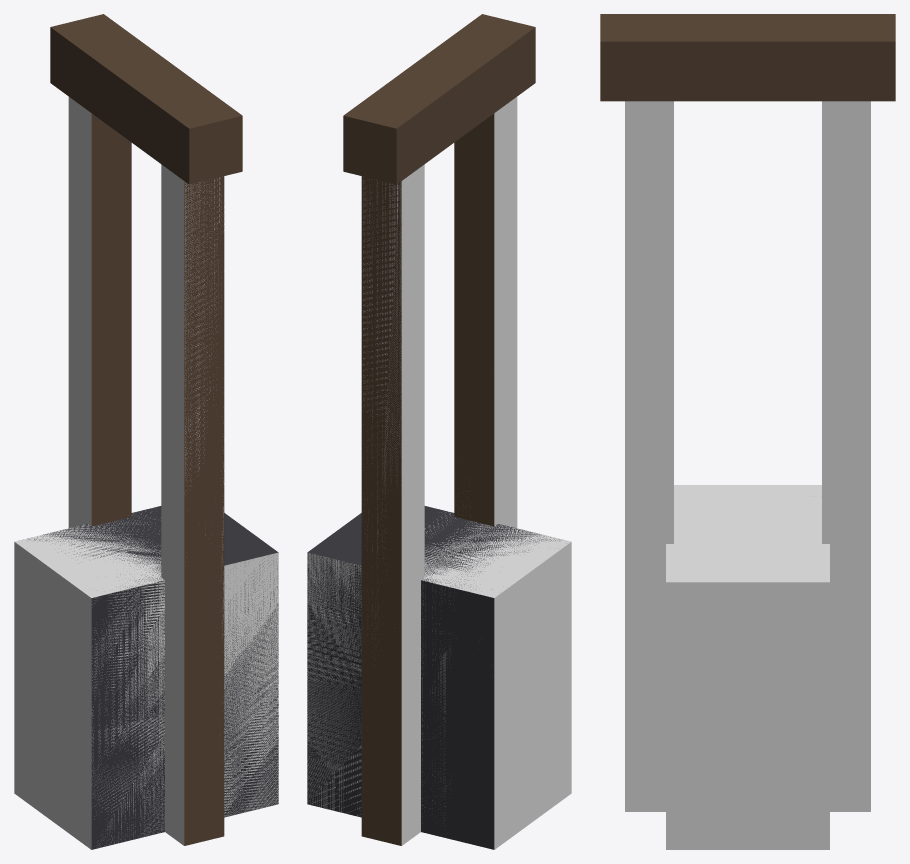
The model's file is booth-8-extra.glb.
3 renders of one model, left to right at view 1: azimuth 30°, elevation 25°; view 2: azimuth 150°, elevation 25°; view 3: azimuth 270°, elevation 25°, orthographic. The views are drawn at different scales.
Visible parts, largest first — view 1: solid.002, 00_#5a4636, 02_#3a3a40_r320, 01_#5a4636_r320, solid, solid.001; view 2: 00_#5a4636, 02_#3a3a40_r320, solid.002, 01_#5a4636_r320, solid.001, solid; view 3: solid.002, solid, solid.001, 01_#5a4636_r320.
Part boxes in pixels (bbox=[...]): solid.002: bbox=[14, 511, 278, 849]; 00_#5a4636: bbox=[91, 113, 224, 845]; 02_#3a3a40_r320: bbox=[27, 506, 278, 849]; 01_#5a4636_r320: bbox=[50, 14, 242, 184]; solid: bbox=[161, 164, 224, 845]; solid.001: bbox=[68, 97, 91, 528]; 00_#5a4636: bbox=[361, 113, 494, 845]; 02_#3a3a40_r320: bbox=[307, 506, 559, 849]; solid.002: bbox=[307, 512, 571, 849]; 01_#5a4636_r320: bbox=[343, 14, 535, 184]; solid.001: bbox=[361, 164, 424, 845]; solid: bbox=[494, 97, 517, 528]; solid.002: bbox=[666, 485, 829, 849]; solid: bbox=[625, 101, 673, 811]; solid.001: bbox=[822, 101, 870, 811]; 01_#5a4636_r320: bbox=[600, 14, 895, 101].
Size of the model in its own units: 1.4 by 5.2 by 1.8.
